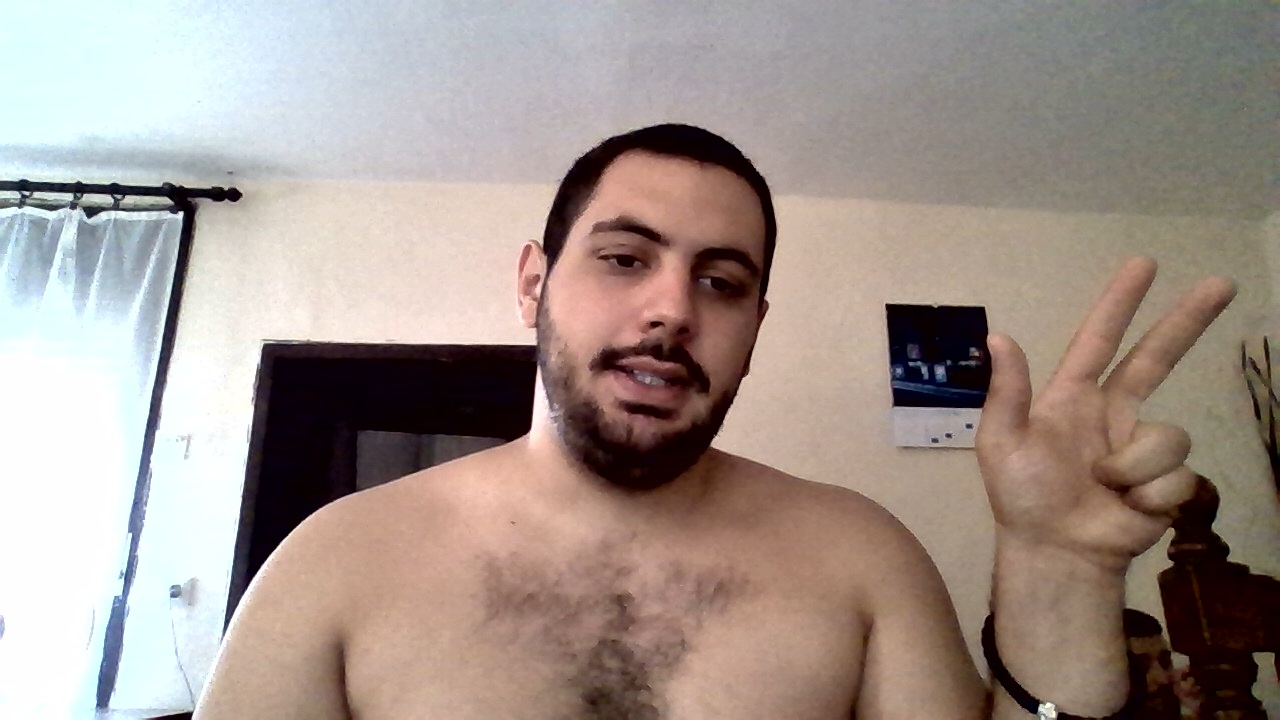serbia: (975, 261, 1238, 541)
